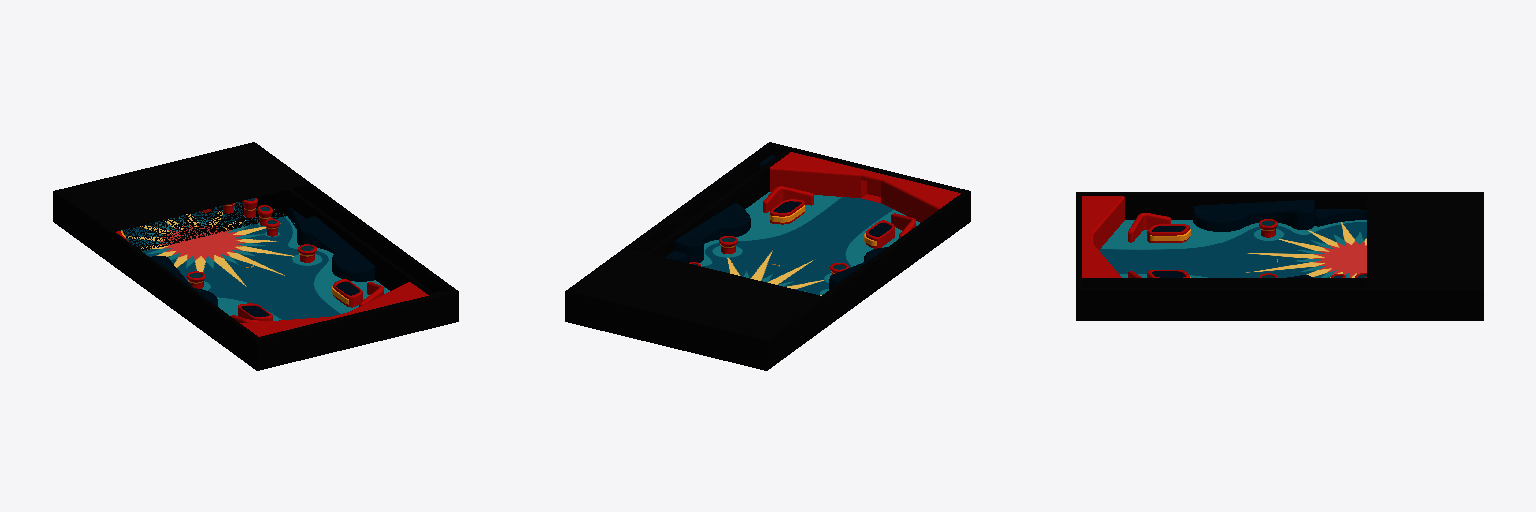
The picture shows the model from 3 angles: view 1: azimuth 30°, elevation 25°; view 2: azimuth 150°, elevation 25°; view 3: azimuth 270°, elevation 25°; orthographic projection.
Visible parts, largest first — view 1: TableWalls.001_Cube.052, TableTop.001_Cube.053, TableFloor.001_Cube.051, SCurveRight.002_Cylinder.042, TableBottom.002_Cube.054, PaddleGuard_Right.001_Cube.058, UpperRightBumpers.001_Cylinder.036, Side_Bumpers.001_Cylinder.035; view 2: TableTop.001_Cube.053, TableFloor.001_Cube.051, TableWalls.001_Cube.052, TableBottom.002_Cube.054, SCurveRight.002_Cylinder.042, PaddleGuard_Right.001_Cube.058, PaddleRail_Right.001_Cube.055; view 3: TableWalls.001_Cube.052, TableTop.001_Cube.053, TableFloor.001_Cube.051, SCurveRight.002_Cylinder.042, TableBottom.002_Cube.054, PaddleGuard_Right.001_Cube.058, GuideLeft_Backup.001_Cube.060, PaddleRail_Right.001_Cube.055.
Part boxes in pixels (x1,y1,x2,y2): TableWalls.001_Cube.052: (111, 184, 458, 365); TableTop.001_Cube.053: (53, 142, 310, 258); TableFloor.001_Cube.051: (53, 202, 458, 370); SCurveRight.002_Cylinder.042: (150, 216, 374, 306); TableBottom.002_Cube.054: (240, 282, 428, 336); PaddleGuard_Right.001_Cube.058: (238, 279, 362, 320); UpperRightBumpers.001_Cylinder.036: (200, 198, 279, 236); Side_Bumpers.001_Cylinder.035: (186, 244, 316, 288); TableTop.001_Cube.053: (565, 248, 824, 365); TableFloor.001_Cube.051: (565, 192, 970, 370); TableWalls.001_Cube.052: (625, 142, 970, 322); TableBottom.002_Cube.054: (770, 152, 960, 222); SCurveRight.002_Cylinder.042: (675, 203, 886, 289); PaddleGuard_Right.001_Cube.058: (770, 199, 894, 248); PaddleRail_Right.001_Cube.055: (763, 186, 915, 238); TableWalls.001_Cube.052: (1076, 192, 1366, 315); TableTop.001_Cube.053: (1367, 192, 1483, 315); TableFloor.001_Cube.051: (1076, 220, 1483, 320); SCurveRight.002_Cylinder.042: (1193, 200, 1314, 277); TableBottom.002_Cube.054: (1082, 196, 1124, 277); PaddleGuard_Right.001_Cube.058: (1147, 224, 1190, 277); GuideLeft_Backup.001_Cube.060: (1315, 209, 1366, 226); PaddleRail_Right.001_Cube.055: (1128, 213, 1170, 277).
Size of the model in its own units: 20 by 3 by 35.
6 materials, 1 textured.